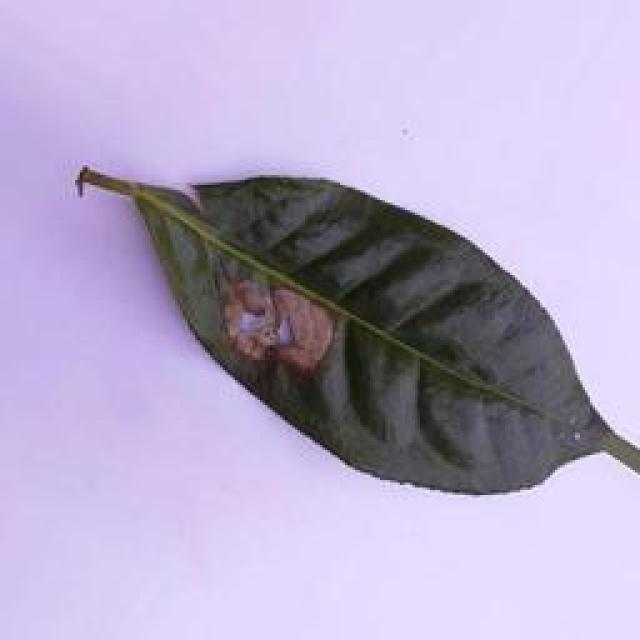Gray Blight: (68, 143, 640, 504)
